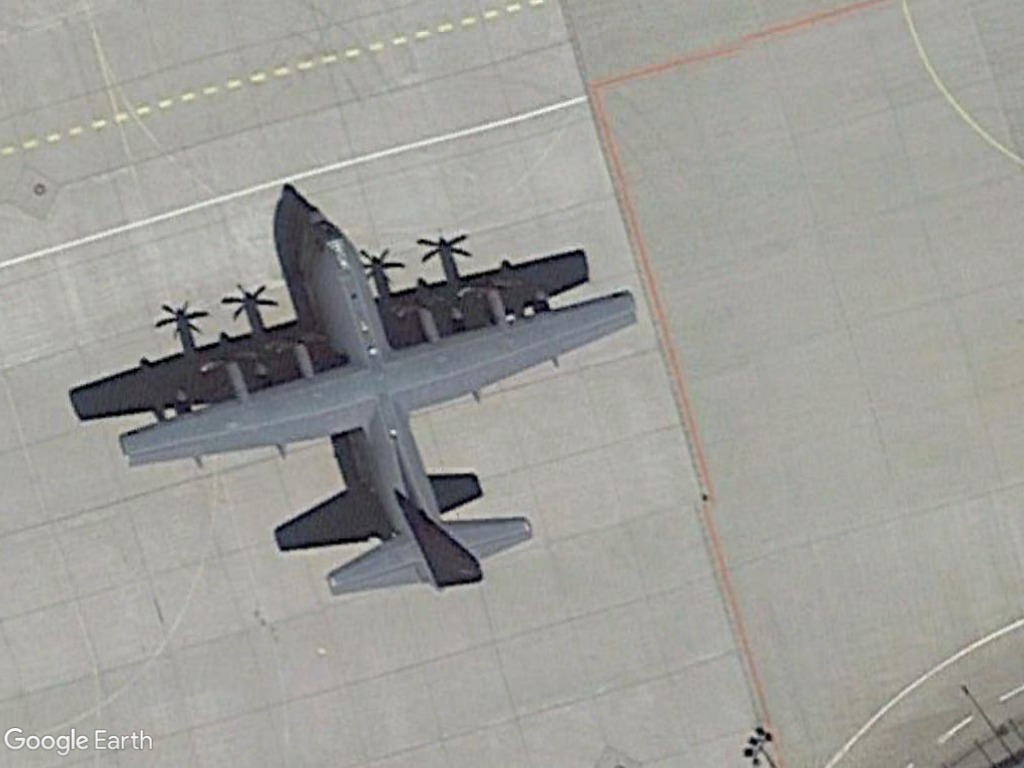propeller: (103, 203, 644, 612)
